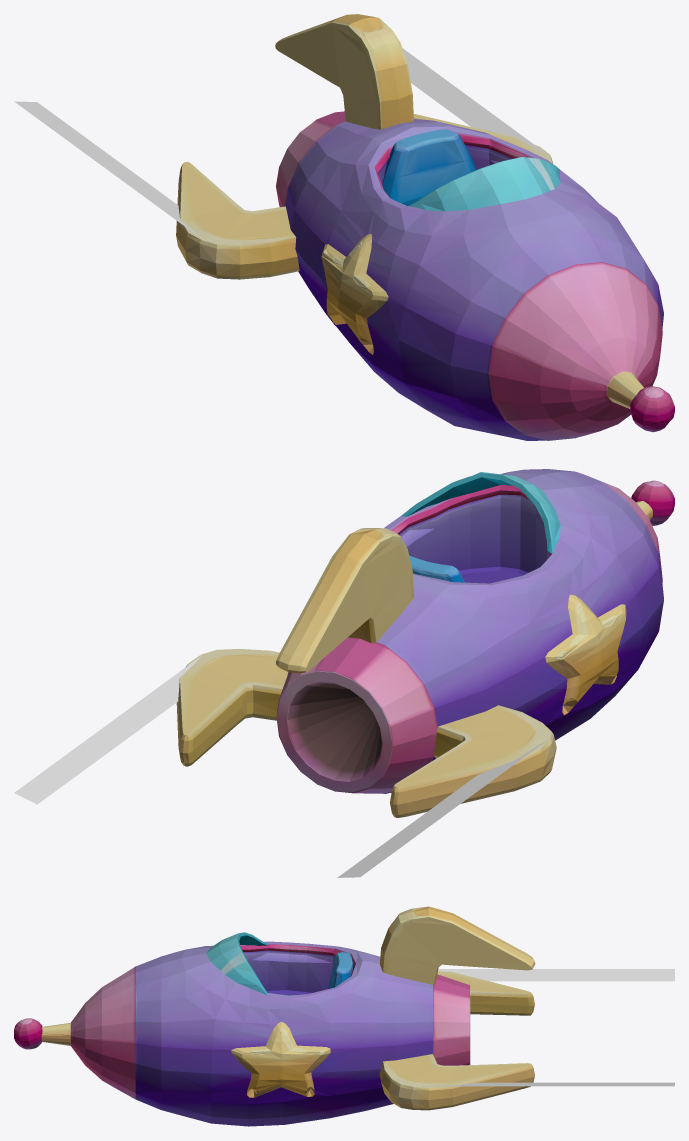
File: UnicornAngelaAirplane.glb
The picture shows the model from 3 angles, top to bottom: view 1: azimuth 30°, elevation 25°; view 2: azimuth 150°, elevation 25°; view 3: azimuth 270°, elevation 25°; orthographic projection. The views are drawn at different scales.
Parts seen in each view (by area): view 1: airplane, Trail1, Trail2; view 2: airplane, Trail1, Trail2; view 3: airplane, Trail2, Trail1.
Part boxes in pixels (x1,y1,x2,y2): airplane: [176, 14, 674, 440]; Trail1: [402, 48, 551, 157]; Trail2: [14, 101, 205, 241]; airplane: [176, 469, 674, 817]; Trail1: [14, 653, 205, 804]; Trail2: [337, 737, 550, 877]; airplane: [14, 906, 535, 1126]; Trail2: [438, 969, 674, 981]; Trail1: [421, 1082, 674, 1086].
Size of the model in its own units: 0.6435 by 0.5087 by 1.48.
